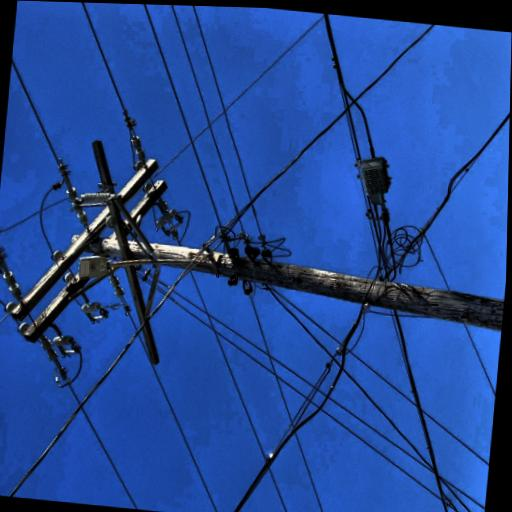insulator: (55, 139, 69, 156), (121, 176, 135, 191), (102, 189, 115, 205), (181, 275, 195, 289), (75, 125, 88, 140), (201, 266, 214, 281), (153, 234, 165, 250)
pole: (36, 189, 153, 509)
street light: (95, 206, 140, 365)
